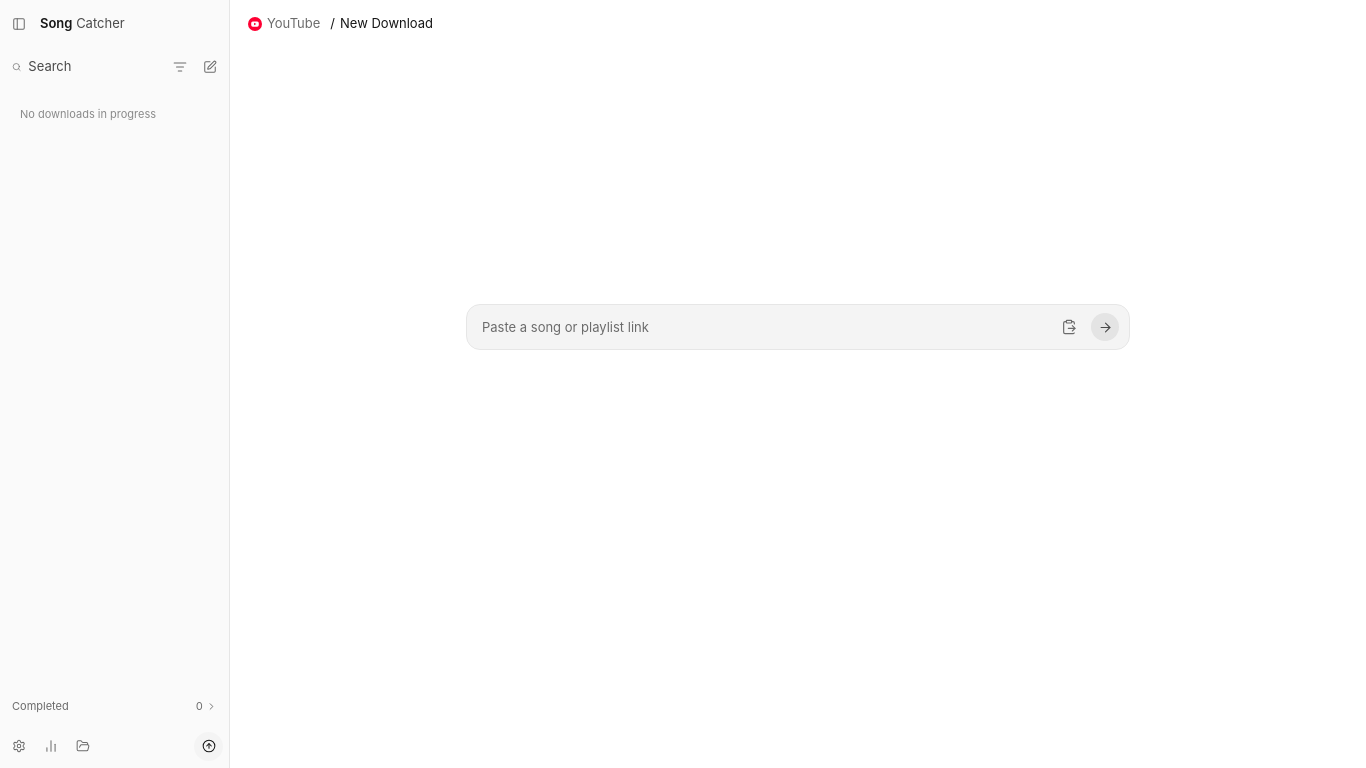
Test: App › opens Logs in a dialog from the sidebar footer and closes it
Click the button named "Logs" at (51, 746), box top-left (38, 733), bottom-right (64, 759)
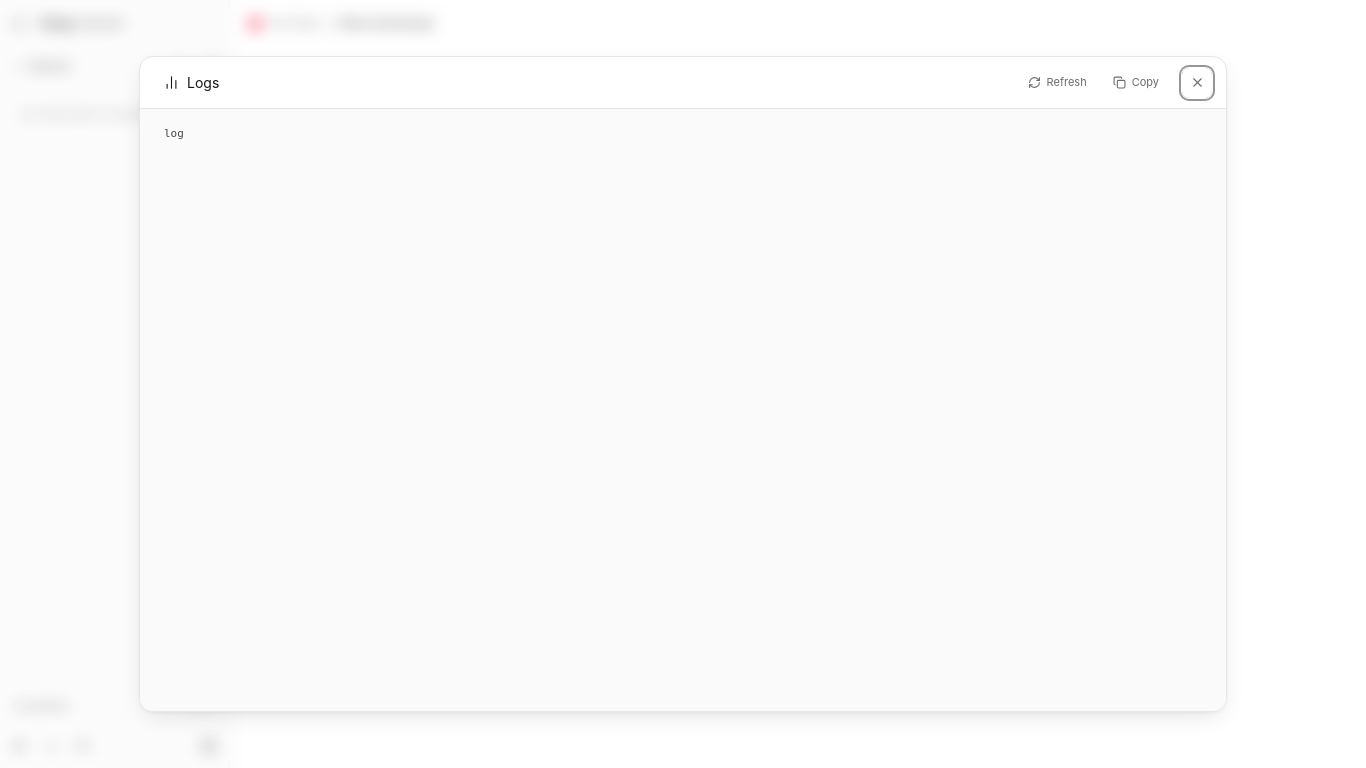
Click the button named "Close" at (1197, 82), box top-left (1182, 68), bottom-right (1212, 98)
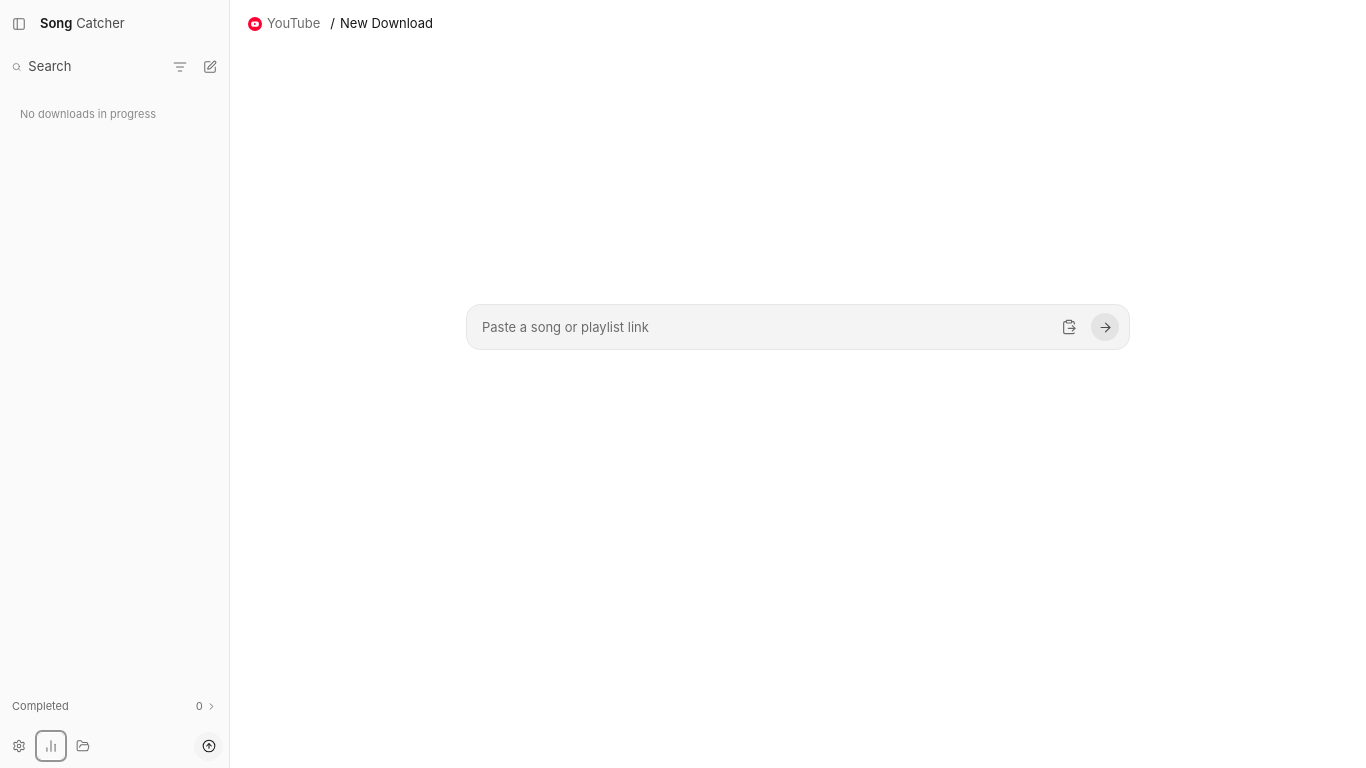
Check: the navigation bar named "Breadcrumb" reads "YouTube / New Download", box top-left (248, 14), bottom-right (433, 34)
Check: the dialog is gone
